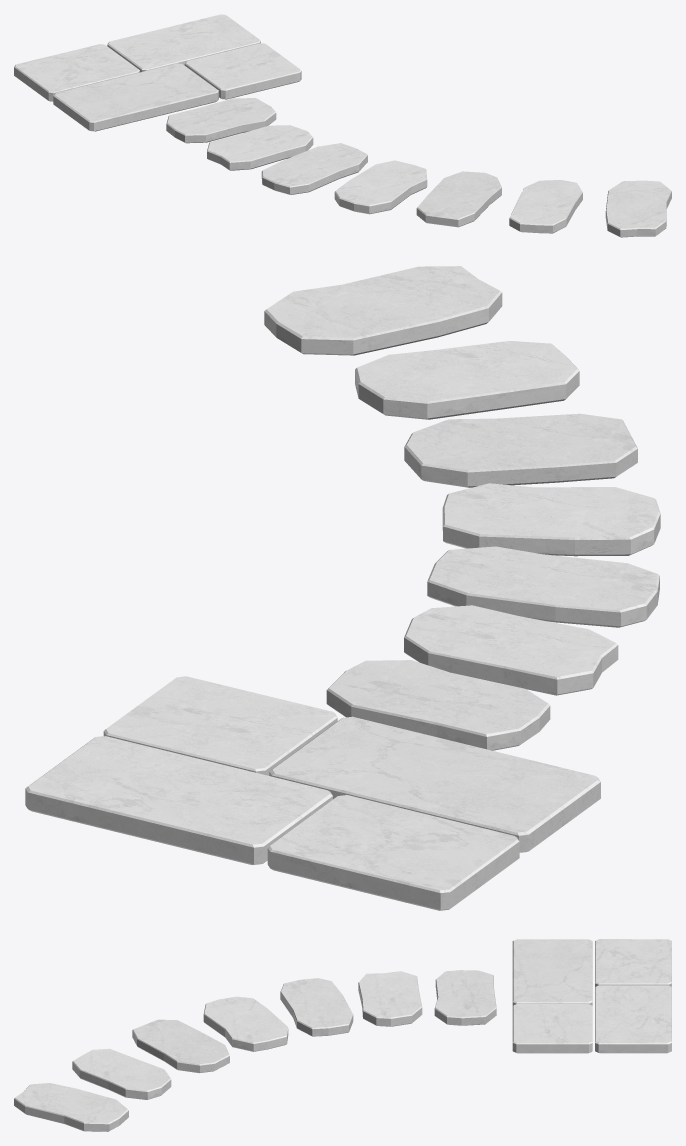
File: entrance_stonework.glb
3 views of the same model, one above another, from view 1: azimuth 30°, elevation 25°; view 2: azimuth 150°, elevation 25°; view 3: azimuth 270°, elevation 25° (orthographic). The views are drawn at different scales.
Visible parts, largest first — view 1: Entrance_Seven_Stones, Entrance_Landing; view 2: Entrance_Seven_Stones, Entrance_Landing; view 3: Entrance_Seven_Stones, Entrance_Landing.
Part boxes in pixels (x1,y1,x2,y2): Entrance_Seven_Stones: (166,98,671,237); Entrance_Landing: (14,14,301,131); Entrance_Seven_Stones: (264,266,660,750); Entrance_Landing: (25,676,600,910); Entrance_Seven_Stones: (14,970,496,1131); Entrance_Landing: (512,939,671,1053).
Size of the model in its own units: 2.99 by 0.0909 by 4.57.
Materials: 1 (1 with a texture image).
